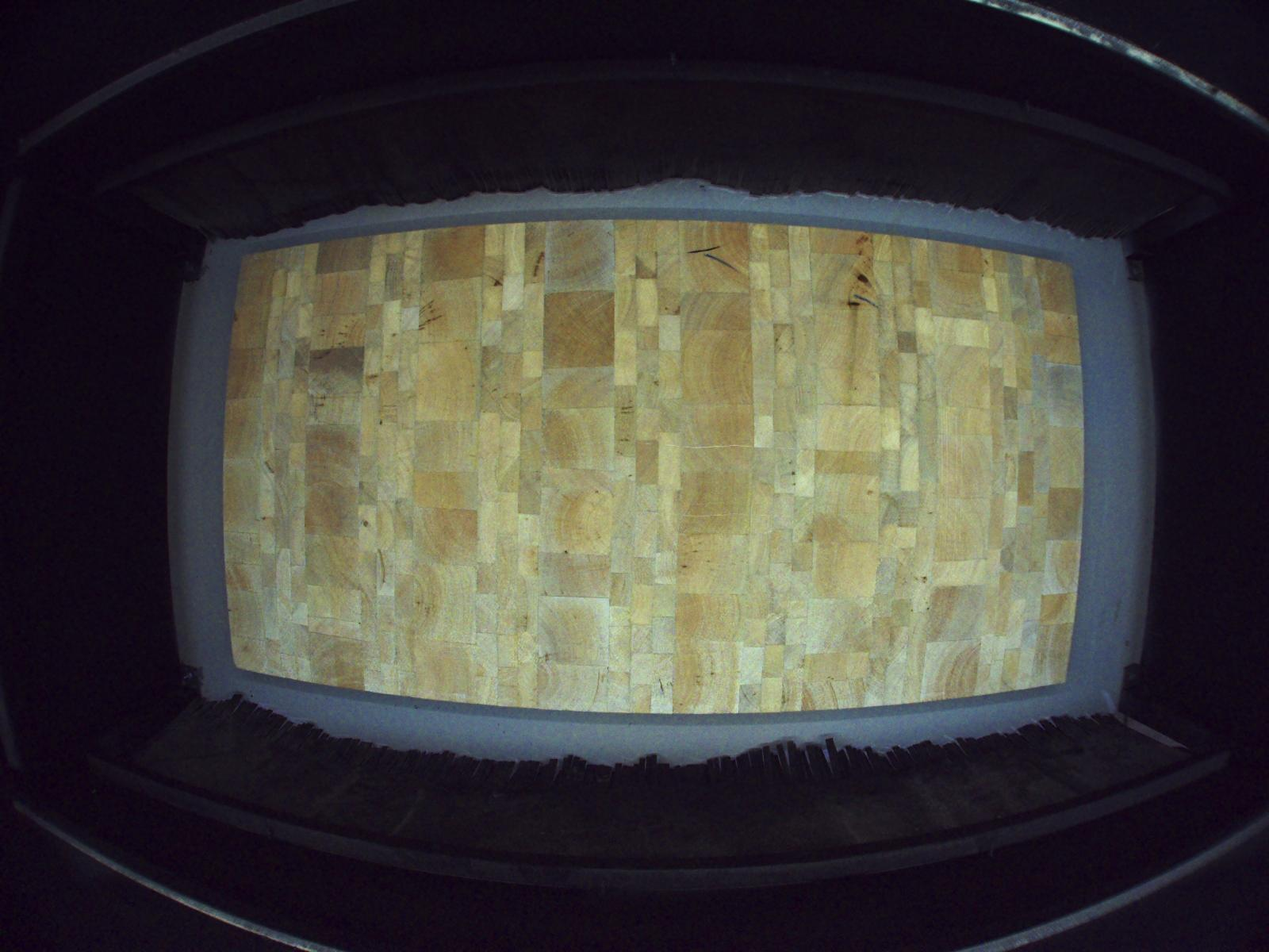sheck_ecuatoriano: (845, 295, 862, 312)
